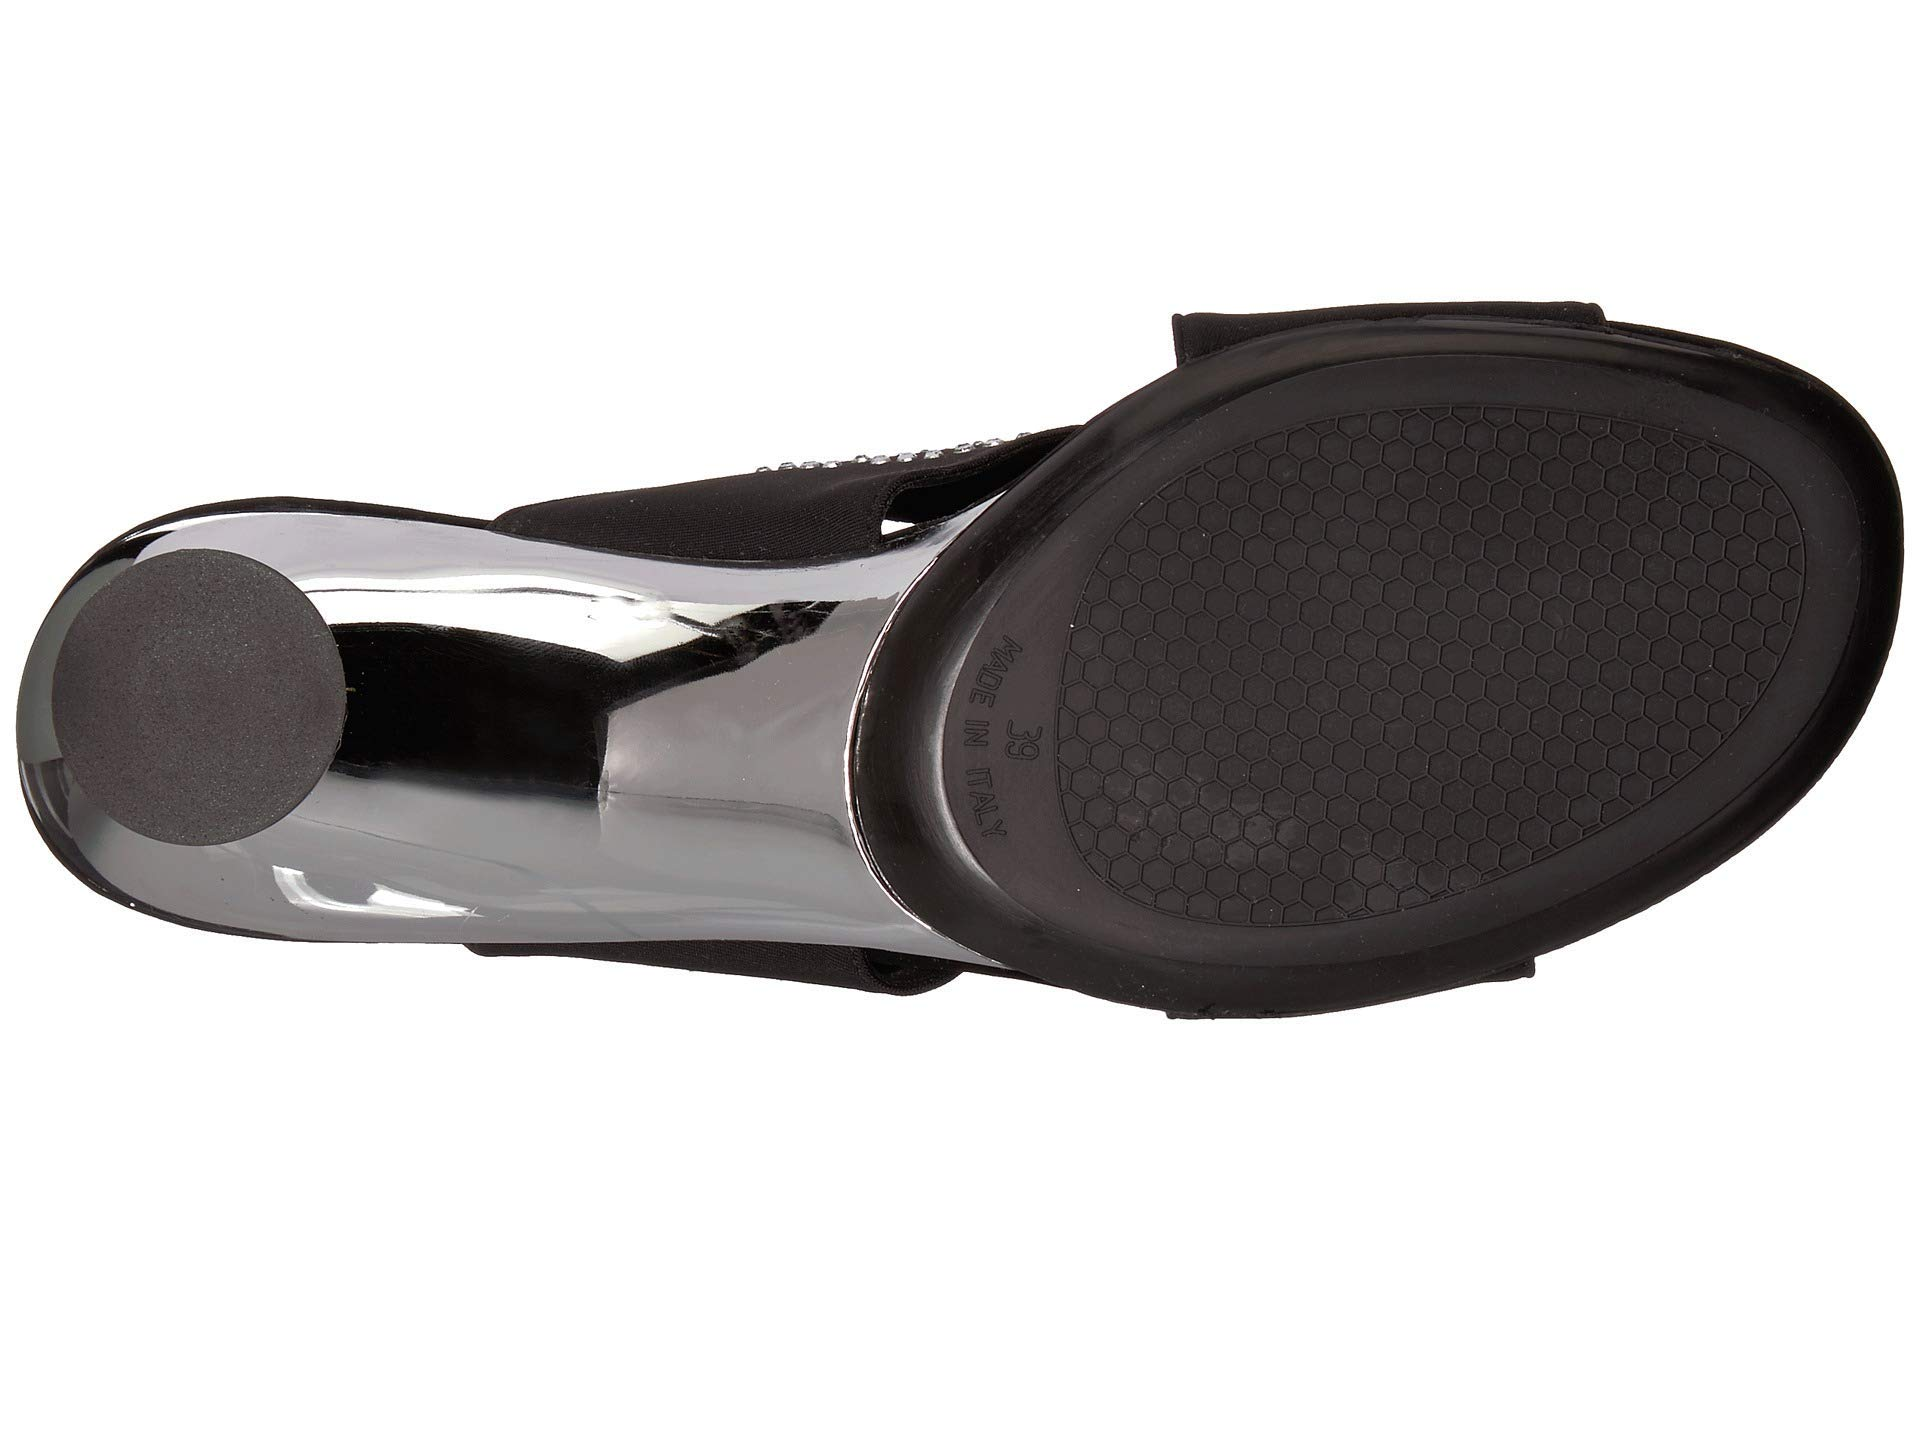circle: (39, 538, 355, 858)
line: (1163, 437, 1674, 846)
polygon: (1163, 437, 1674, 846)
text: (934, 596, 1048, 883)
